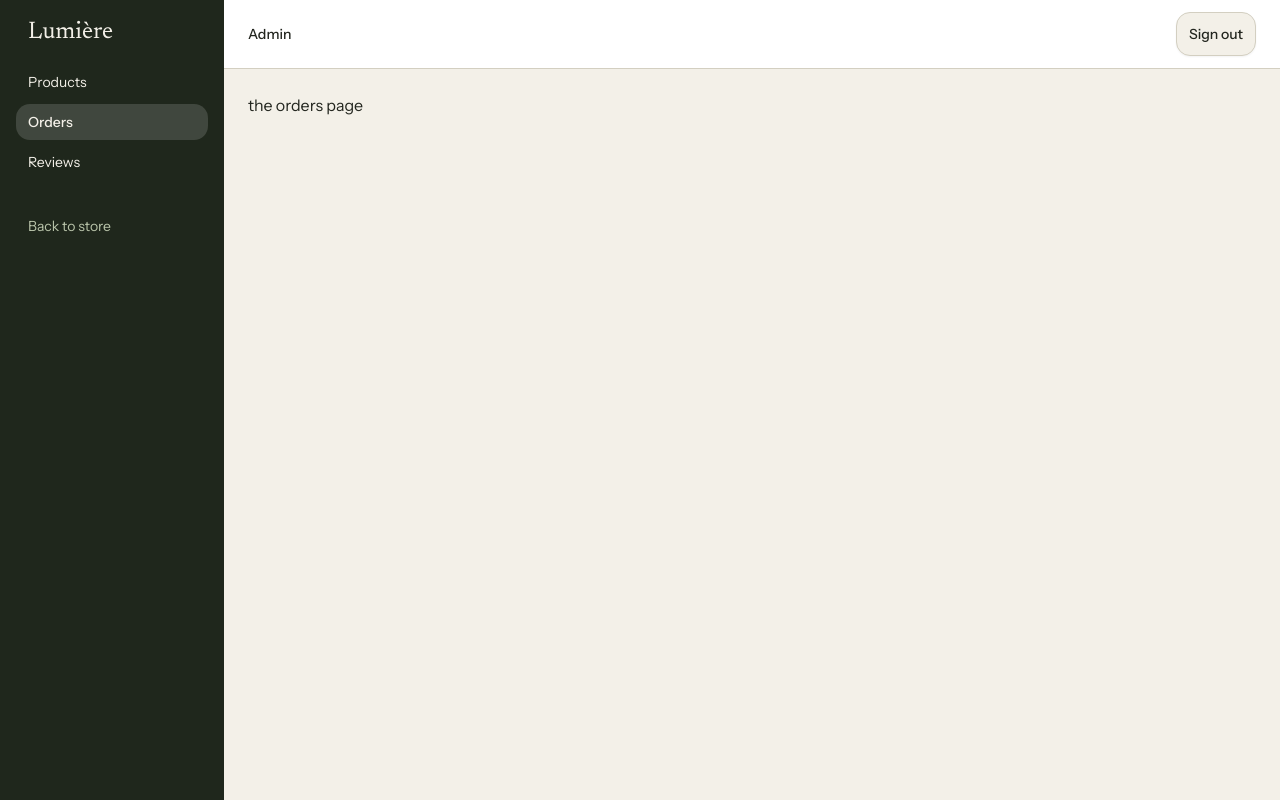
Test case: AdminLayout › goes to another admin page from the menu
Expected: the text "the orders page" is shown, [248,95,363,115]
Step 1. Click the link "Products" → [57, 82], box [28,73,87,91]
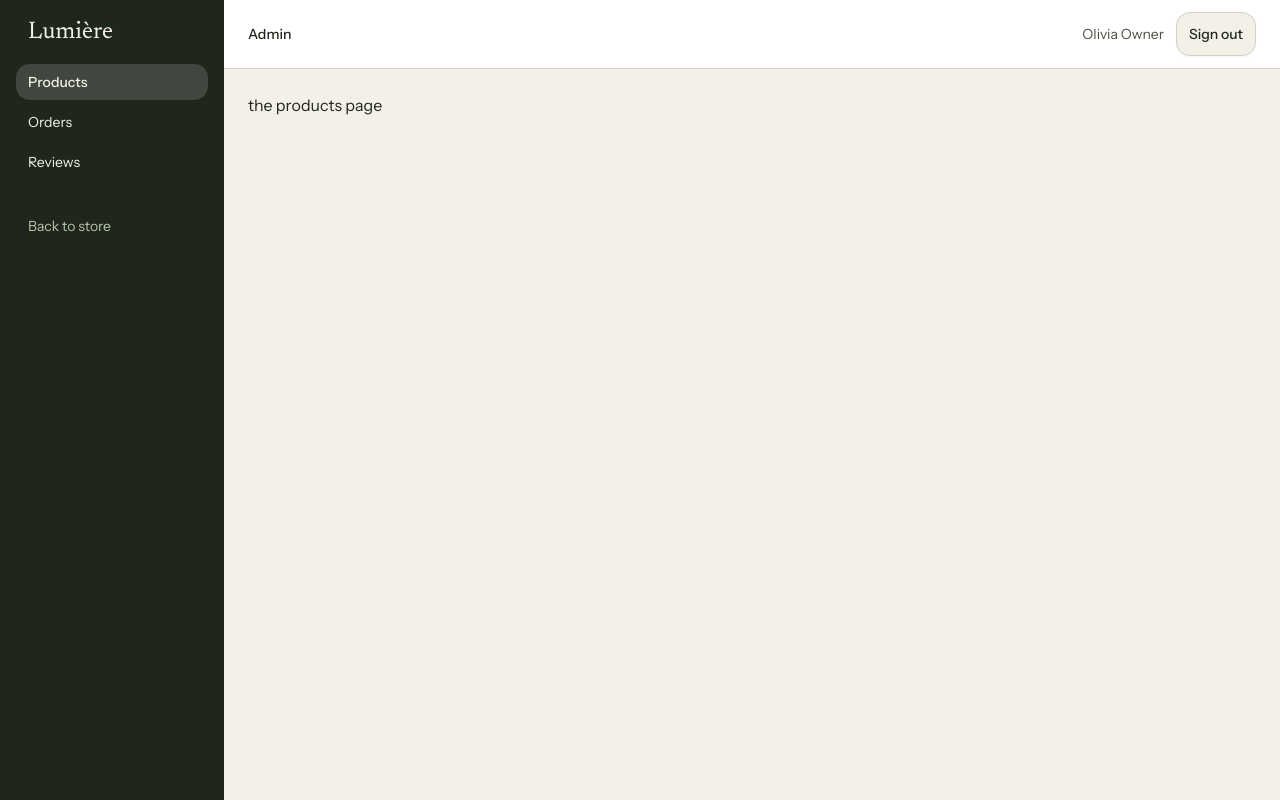
Expected: the text "the products page" is shown, [248,95,382,115]
